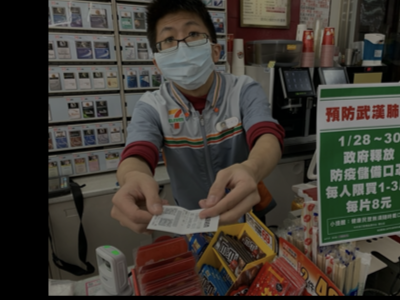with_mask: (153, 18, 218, 91)
